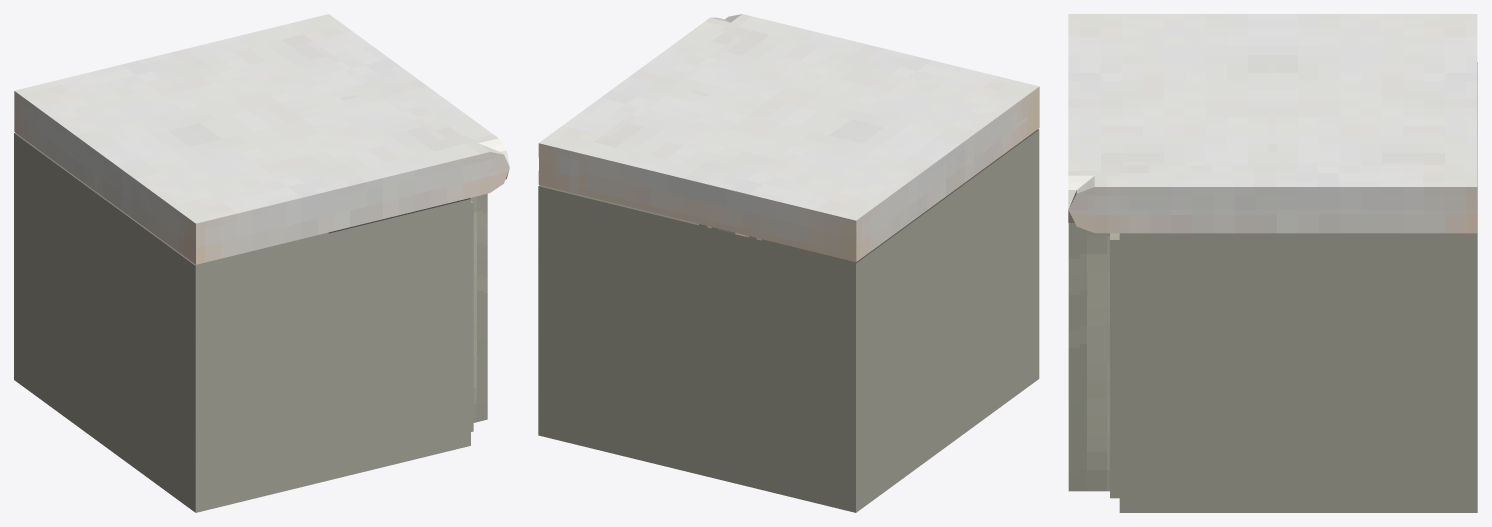
File: CounterCorner.glb
The picture shows the model from 3 angles, left to right: view 1: azimuth 30°, elevation 25°; view 2: azimuth 150°, elevation 25°; view 3: azimuth 270°, elevation 25°; orthographic projection. The views are drawn at different scales.
Parts seen in each view (by area): view 1: baseCounter.008; view 2: baseCounter.008; view 3: baseCounter.008.
Boxes of the visible parts, x1,y1,x2,y2 form: baseCounter.008: [14, 14, 509, 512]; baseCounter.008: [538, 14, 1039, 512]; baseCounter.008: [1068, 14, 1477, 512].
Size of the model in its own units: 4 by 3.52 by 4.
Materials: 2 (2 with a texture image).
